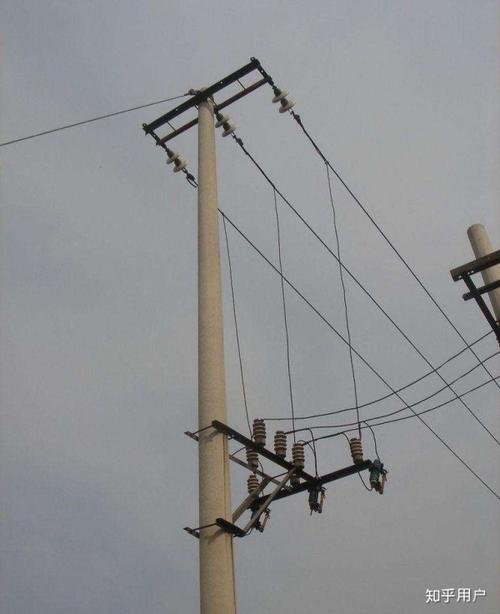utility_pole: (132, 49, 302, 194)
